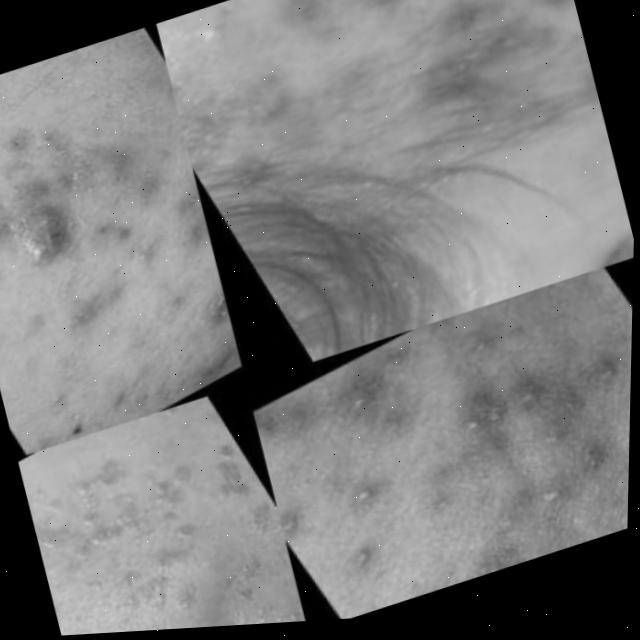Acne: (204, 0, 586, 274), (326, 306, 632, 610), (17, 412, 268, 638), (0, 114, 150, 347)
